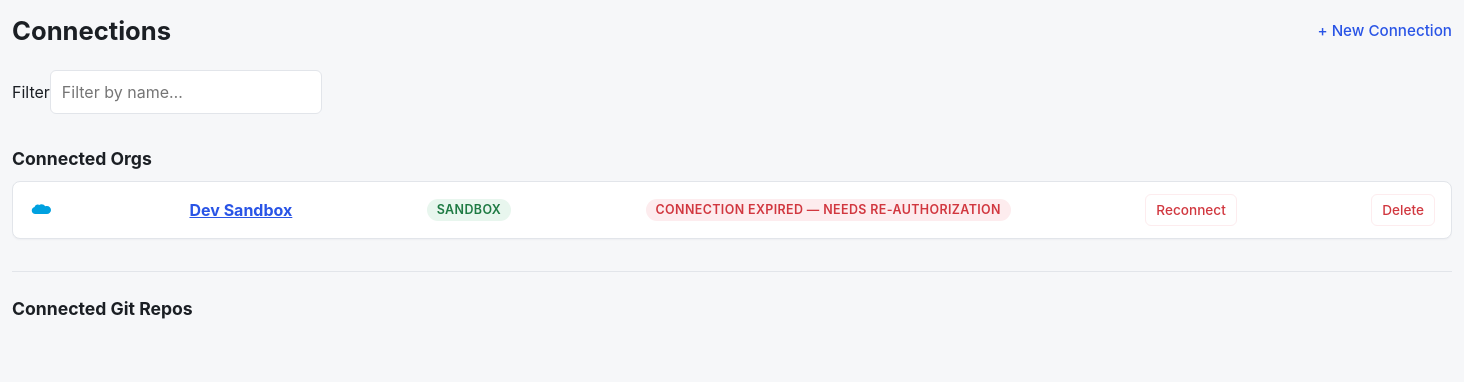
Test case: Connections page › shows an error message when starting re-authorization fails
This screenshot has width=1464, height=382.
Expected: the text "Dev Sandbox" is shown, [190, 200, 292, 220]
Click the button "Reconnect" at (1191, 210), box [1145, 194, 1237, 226]
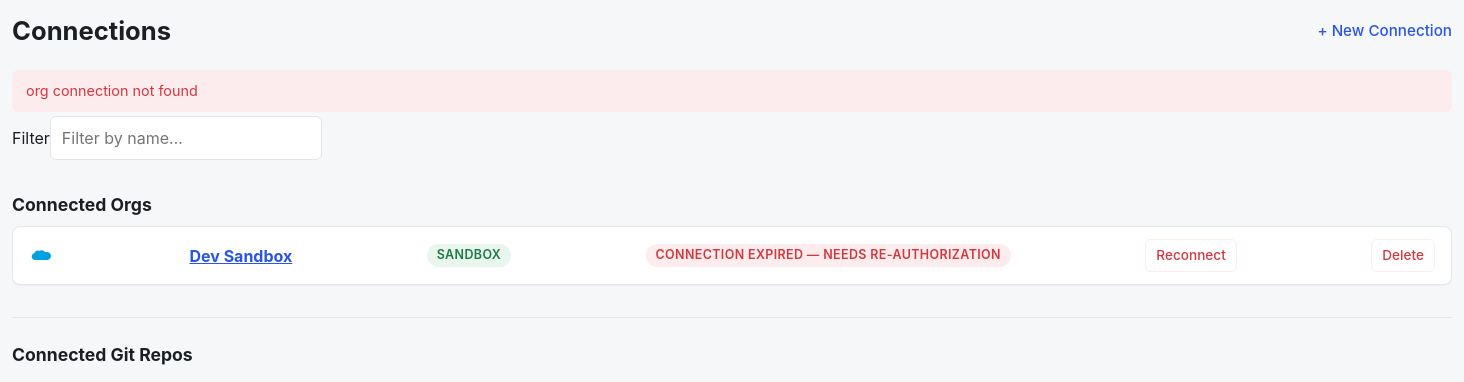
Now the message reads "org connection not found", box [26, 82, 198, 99]
